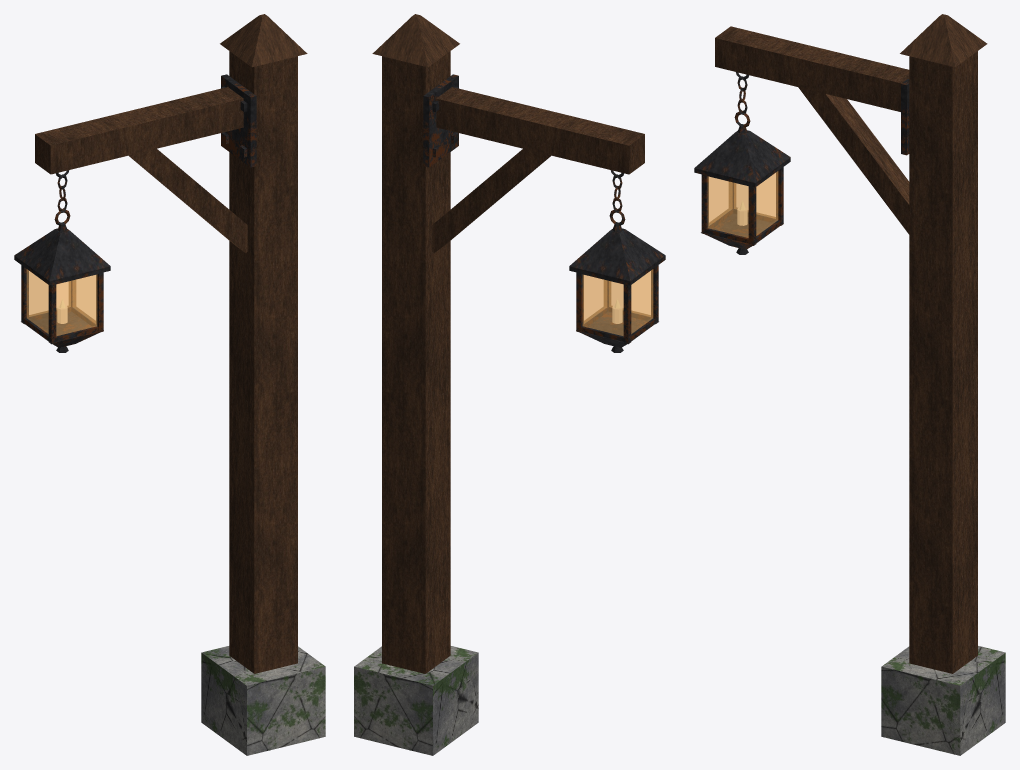
File: lamp_post_a.glb
The picture shows the model from 3 angles, left to right: view 1: azimuth 30°, elevation 25°; view 2: azimuth 150°, elevation 25°; view 3: azimuth 330°, elevation 25°; orthographic projection.
Visible parts, largest first — view 1: lamp_post_a; view 2: lamp_post_a; view 3: lamp_post_a.
Boxes of the visible parts, x1,y1,x2,y2 form: lamp_post_a: (14, 14, 325, 755); lamp_post_a: (354, 14, 665, 755); lamp_post_a: (694, 14, 1005, 755).
Size of the model in its own units: 1.38 by 3.46 by 0.4.
6 materials, 3 textured.
